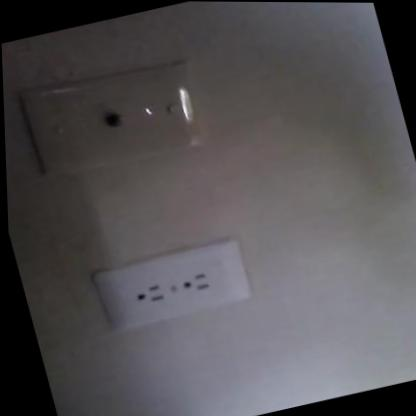OUTLET: (91, 235, 256, 333)
